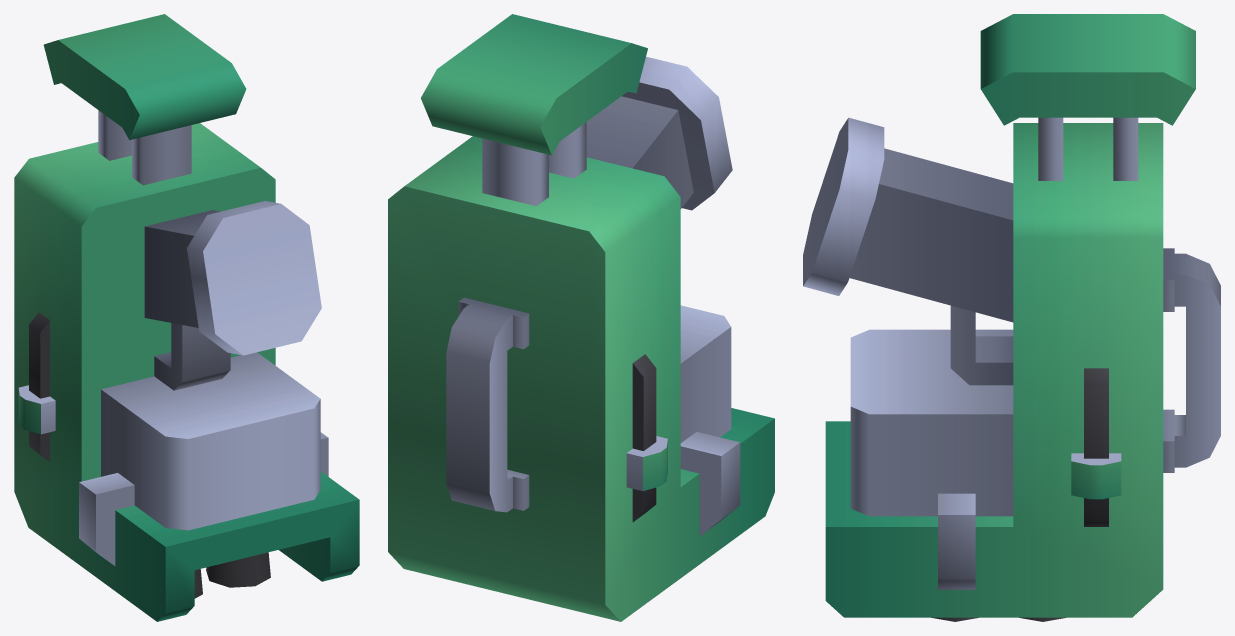
The model's file is kb-blaster-o-lod1.glb.
3 views of the same model, side by side, from view 1: azimuth 30°, elevation 25°; view 2: azimuth 150°, elevation 25°; view 3: azimuth 270°, elevation 25° (orthographic). The views are drawn at different scales.
Parts seen in each view (by area): view 1: WeaponMesh_kb-blaster-o_blaster-o; view 2: WeaponMesh_kb-blaster-o_blaster-o; view 3: WeaponMesh_kb-blaster-o_blaster-o.
Part boxes in pixels (x1=…): WeaponMesh_kb-blaster-o_blaster-o: x1=14, y1=14, x2=359, y2=621; WeaponMesh_kb-blaster-o_blaster-o: x1=388, y1=14, x2=774, y2=621; WeaponMesh_kb-blaster-o_blaster-o: x1=803, y1=14, x2=1220, y2=621.
Size of the model in its own units: 0.7044 by 1.38 by 0.9596.
1 material, 1 textured.
